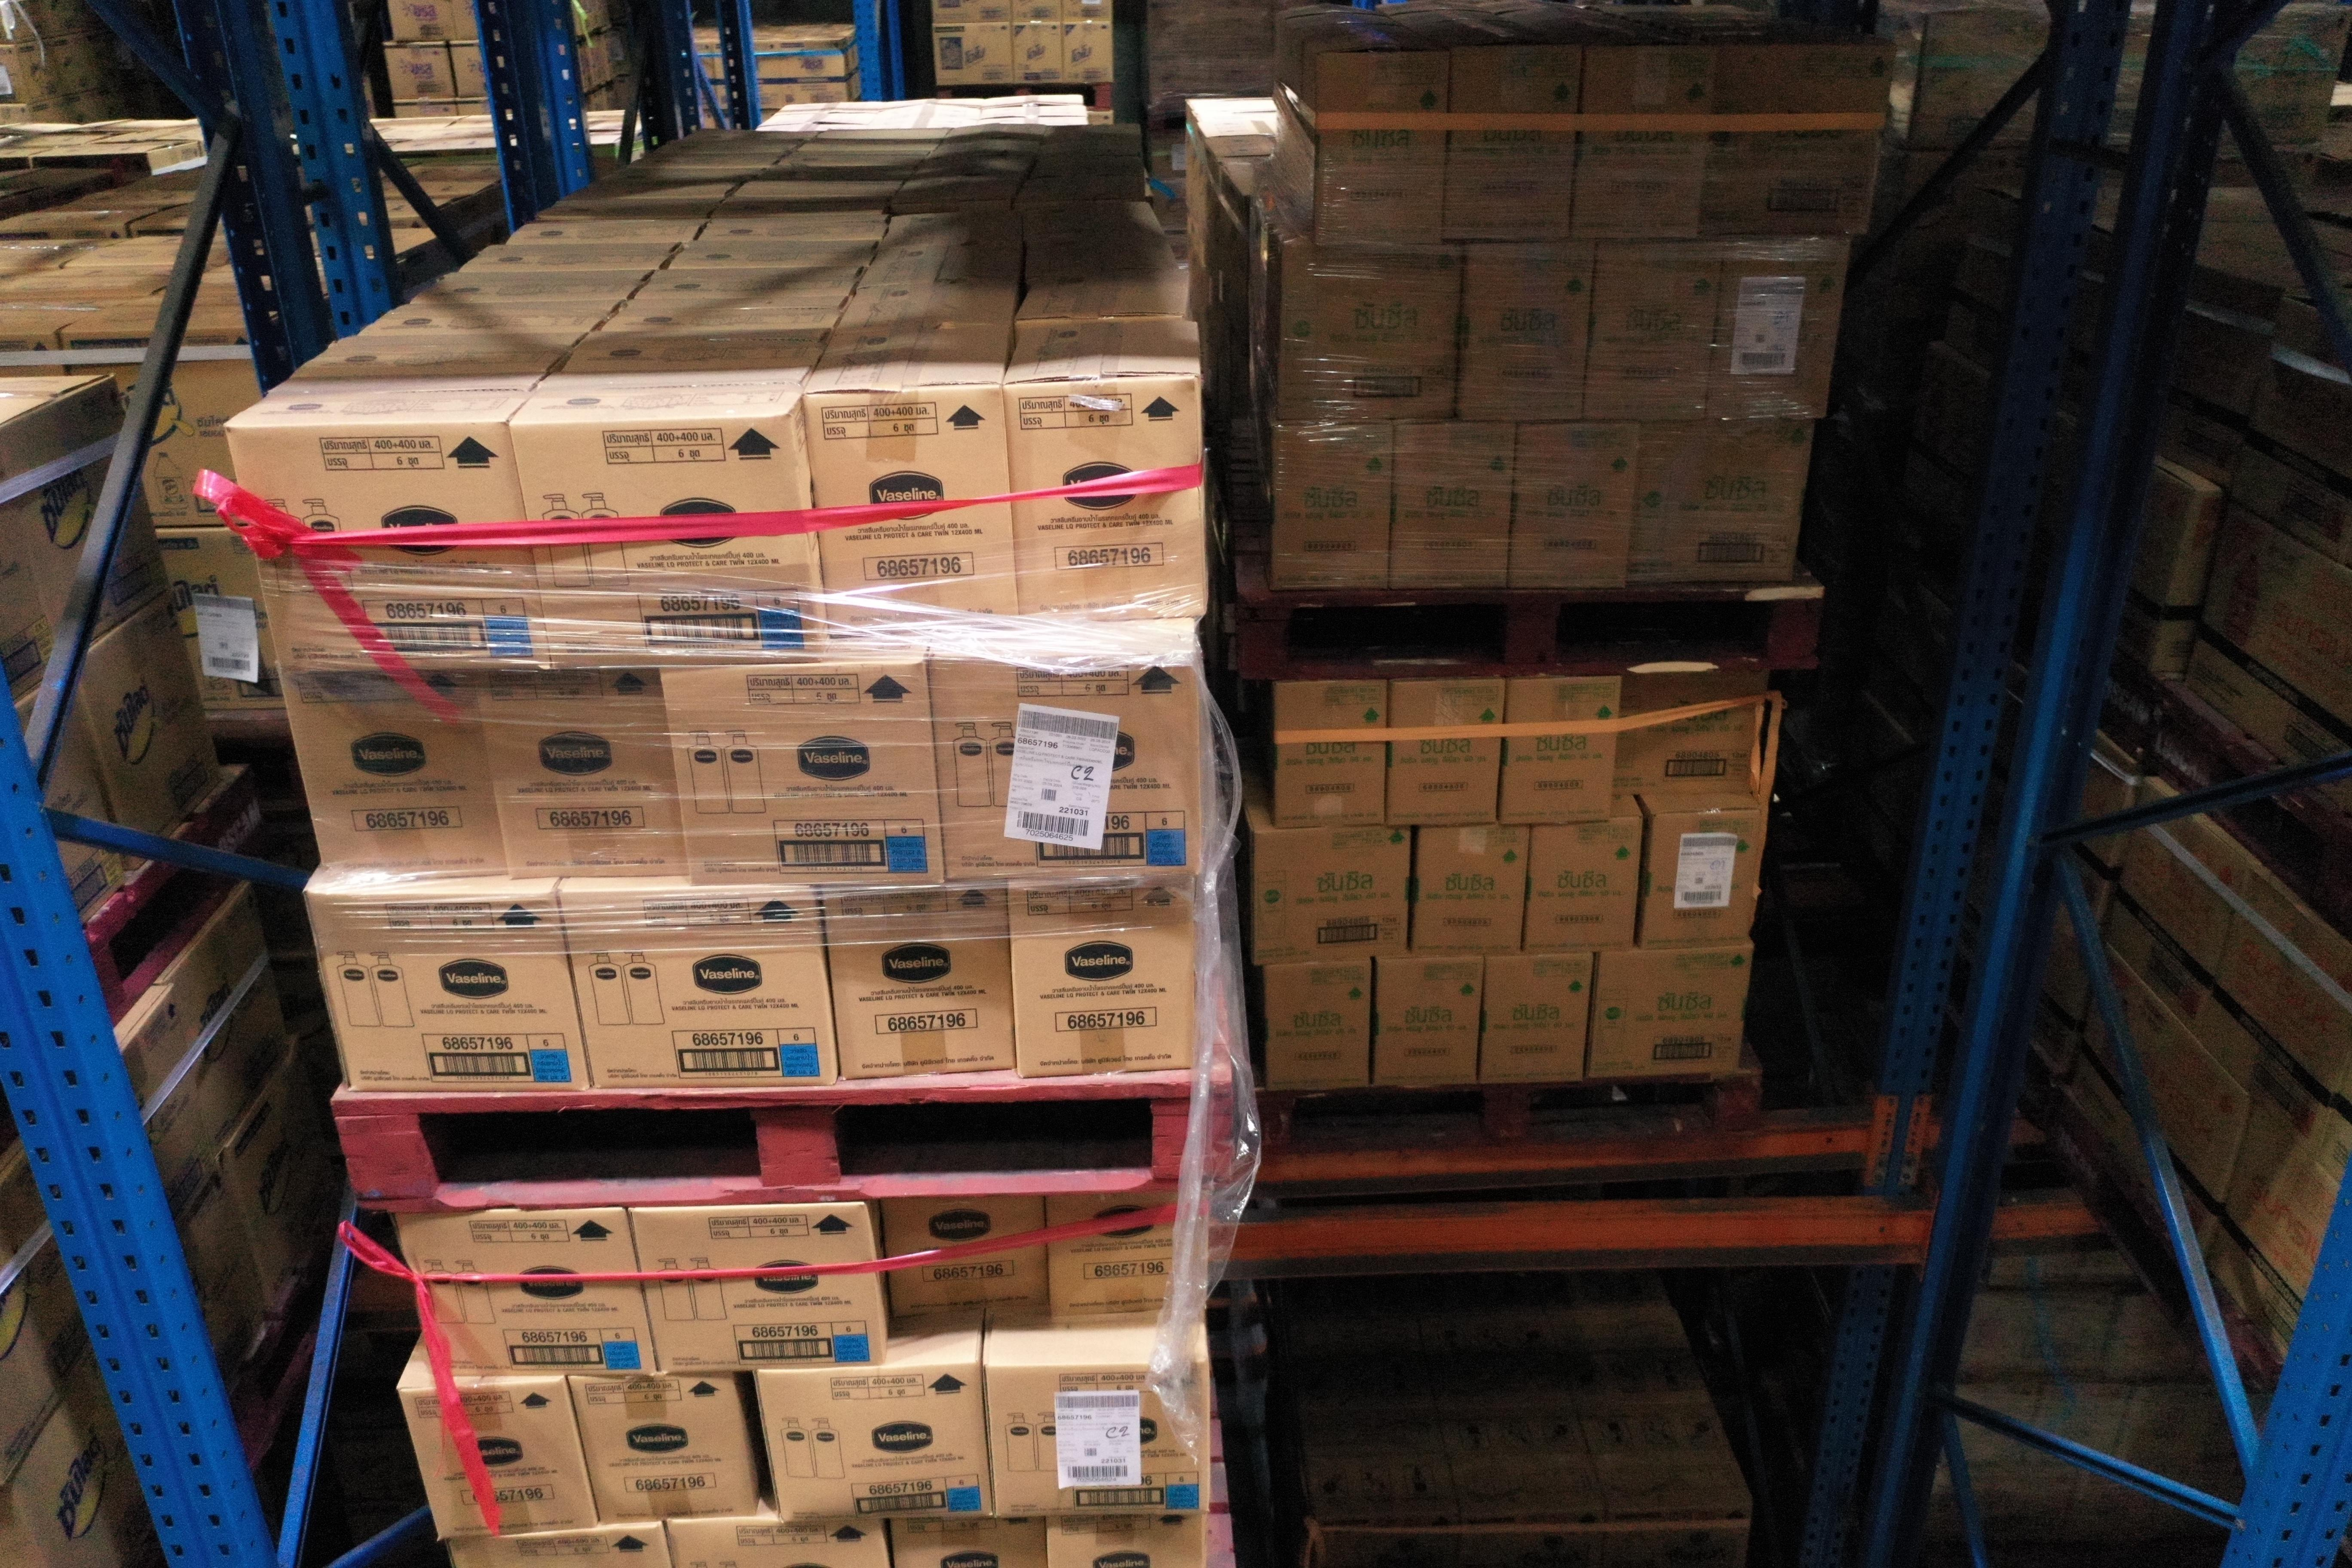-: (226, 422, 549, 670), (511, 418, 828, 670), (663, 667, 940, 885), (931, 654, 1199, 878), (308, 892, 590, 1094), (558, 891, 842, 1088), (801, 387, 1022, 632), (1006, 376, 1204, 621), (280, 670, 507, 871), (474, 670, 688, 878), (399, 1207, 654, 1377), (630, 1206, 889, 1372), (814, 884, 1015, 1080), (752, 1363, 989, 1528), (1011, 877, 1199, 1080), (987, 1361, 1206, 1519), (402, 1381, 600, 1542), (565, 1370, 758, 1521), (1046, 1192, 1206, 1323), (880, 1199, 1046, 1312), (668, 1521, 889, 1568), (450, 1522, 674, 1568), (1046, 1515, 1206, 1568), (887, 1519, 1046, 1566)
box: (1706, 45, 1892, 238), (1274, 245, 1461, 425), (1633, 420, 1813, 584), (1570, 42, 1715, 241), (1444, 42, 1584, 245), (1314, 47, 1452, 248), (1710, 243, 1848, 425), (1461, 245, 1596, 425), (1591, 243, 1720, 422), (1512, 420, 1643, 590), (1388, 422, 1519, 590), (1255, 826, 1412, 964), (1591, 945, 1750, 1080), (1274, 425, 1393, 590), (1388, 677, 1512, 826), (1617, 674, 1762, 798), (1274, 681, 1389, 831), (1641, 807, 1762, 950), (1503, 677, 1619, 824), (1524, 814, 1643, 952), (1414, 821, 1526, 955), (1482, 948, 1591, 1085), (1379, 957, 1484, 1087), (1269, 964, 1374, 1088)
